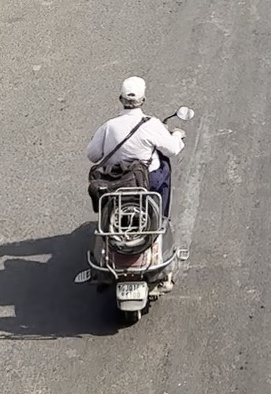BikeWithRider: (70, 70, 198, 327)
NoHelmet: (112, 71, 152, 112)
